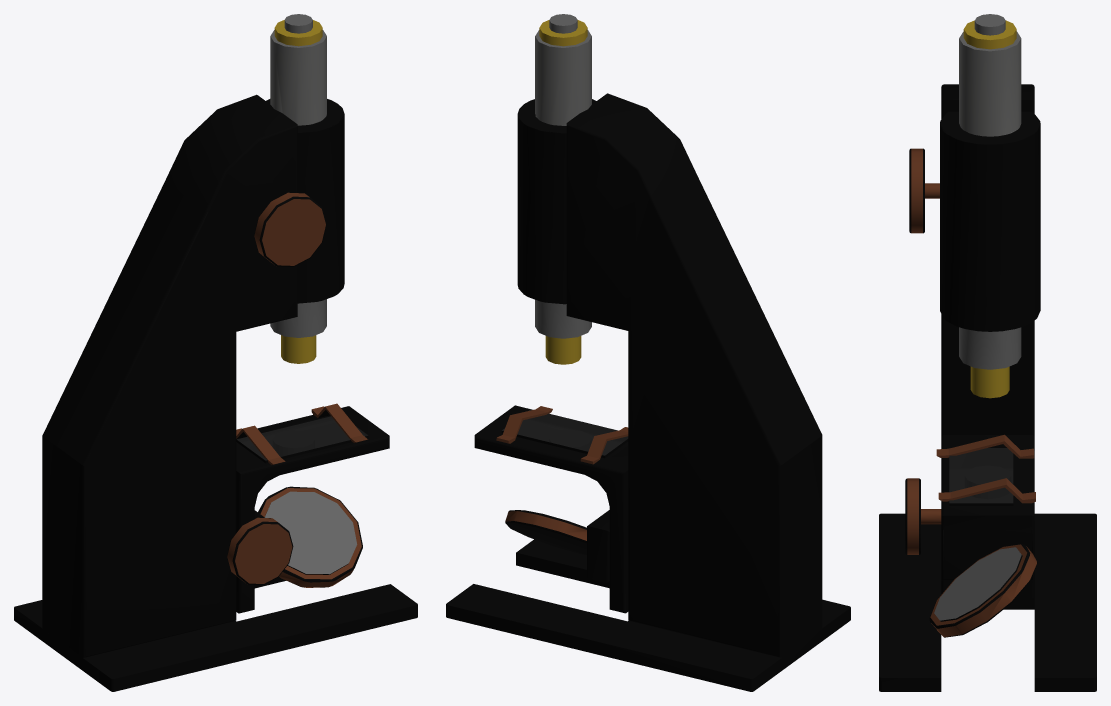
File: 13269_Microscope.fbx
3 views of the same model, side by side, from view 1: azimuth 30°, elevation 25°; view 2: azimuth 150°, elevation 25°; view 3: azimuth 270°, elevation 25° (orthographic). The views are drawn at different scales.
Visible parts, largest first — view 1: obj11, obj12, obj8, obj9, obj10, obj7; view 2: obj11, obj9, obj12, obj8, obj10, obj7; view 3: obj11, obj12, obj8, obj9, obj10, obj7, obj13.
Part boxes in pixels (box(x1,y1,x2,y2)): obj11: box(14, 94, 417, 691); obj12: box(227, 192, 367, 587); obj8: box(264, 14, 357, 574); obj9: box(270, 36, 326, 125); obj10: box(237, 417, 367, 459); obj7: box(274, 20, 322, 363); obj11: box(446, 93, 850, 691); obj9: box(535, 36, 591, 125); obj12: box(496, 406, 628, 540); obj8: box(535, 14, 591, 338); obj10: box(502, 409, 627, 455); obj7: box(539, 20, 587, 364); obj11: box(879, 84, 1096, 691); obj12: box(907, 148, 1036, 637); obj8: box(934, 14, 1021, 620); obj9: box(959, 38, 1021, 136); obj10: box(949, 448, 1012, 502); obj7: box(964, 20, 1016, 398); obj13: box(963, 29, 1016, 49).
Size of the model in its own units: 0.3929 by 0.707 by 0.22.
